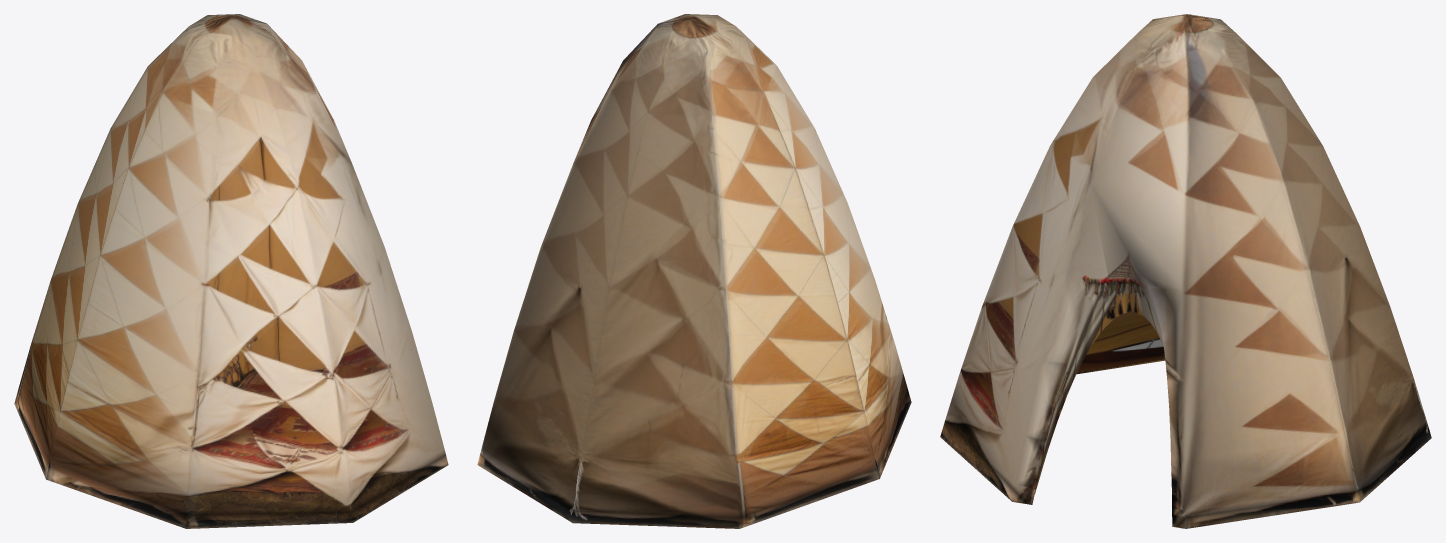
The model's file is home_004.obj.
3 views of the same model, side by side, from view 1: azimuth 30°, elevation 25°; view 2: azimuth 150°, elevation 25°; view 3: azimuth 270°, elevation 25° (orthographic).
Visible parts, largest first — view 1: model; view 2: model; view 3: model.
Boxes of the visible parts, <box> form: model: <box>14,14,448,528</box>; model: <box>477,14,911,528</box>; model: <box>940,14,1431,528</box>.
Bounding box in the file's own units: 1.76 × 1.9 × 2.
